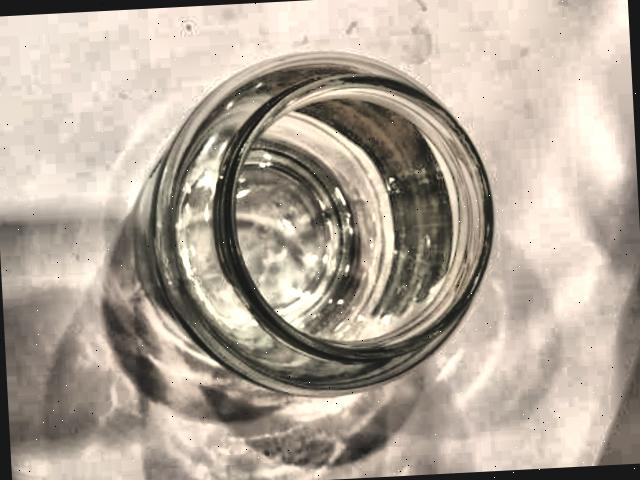Almennt: (134, 43, 507, 410)
